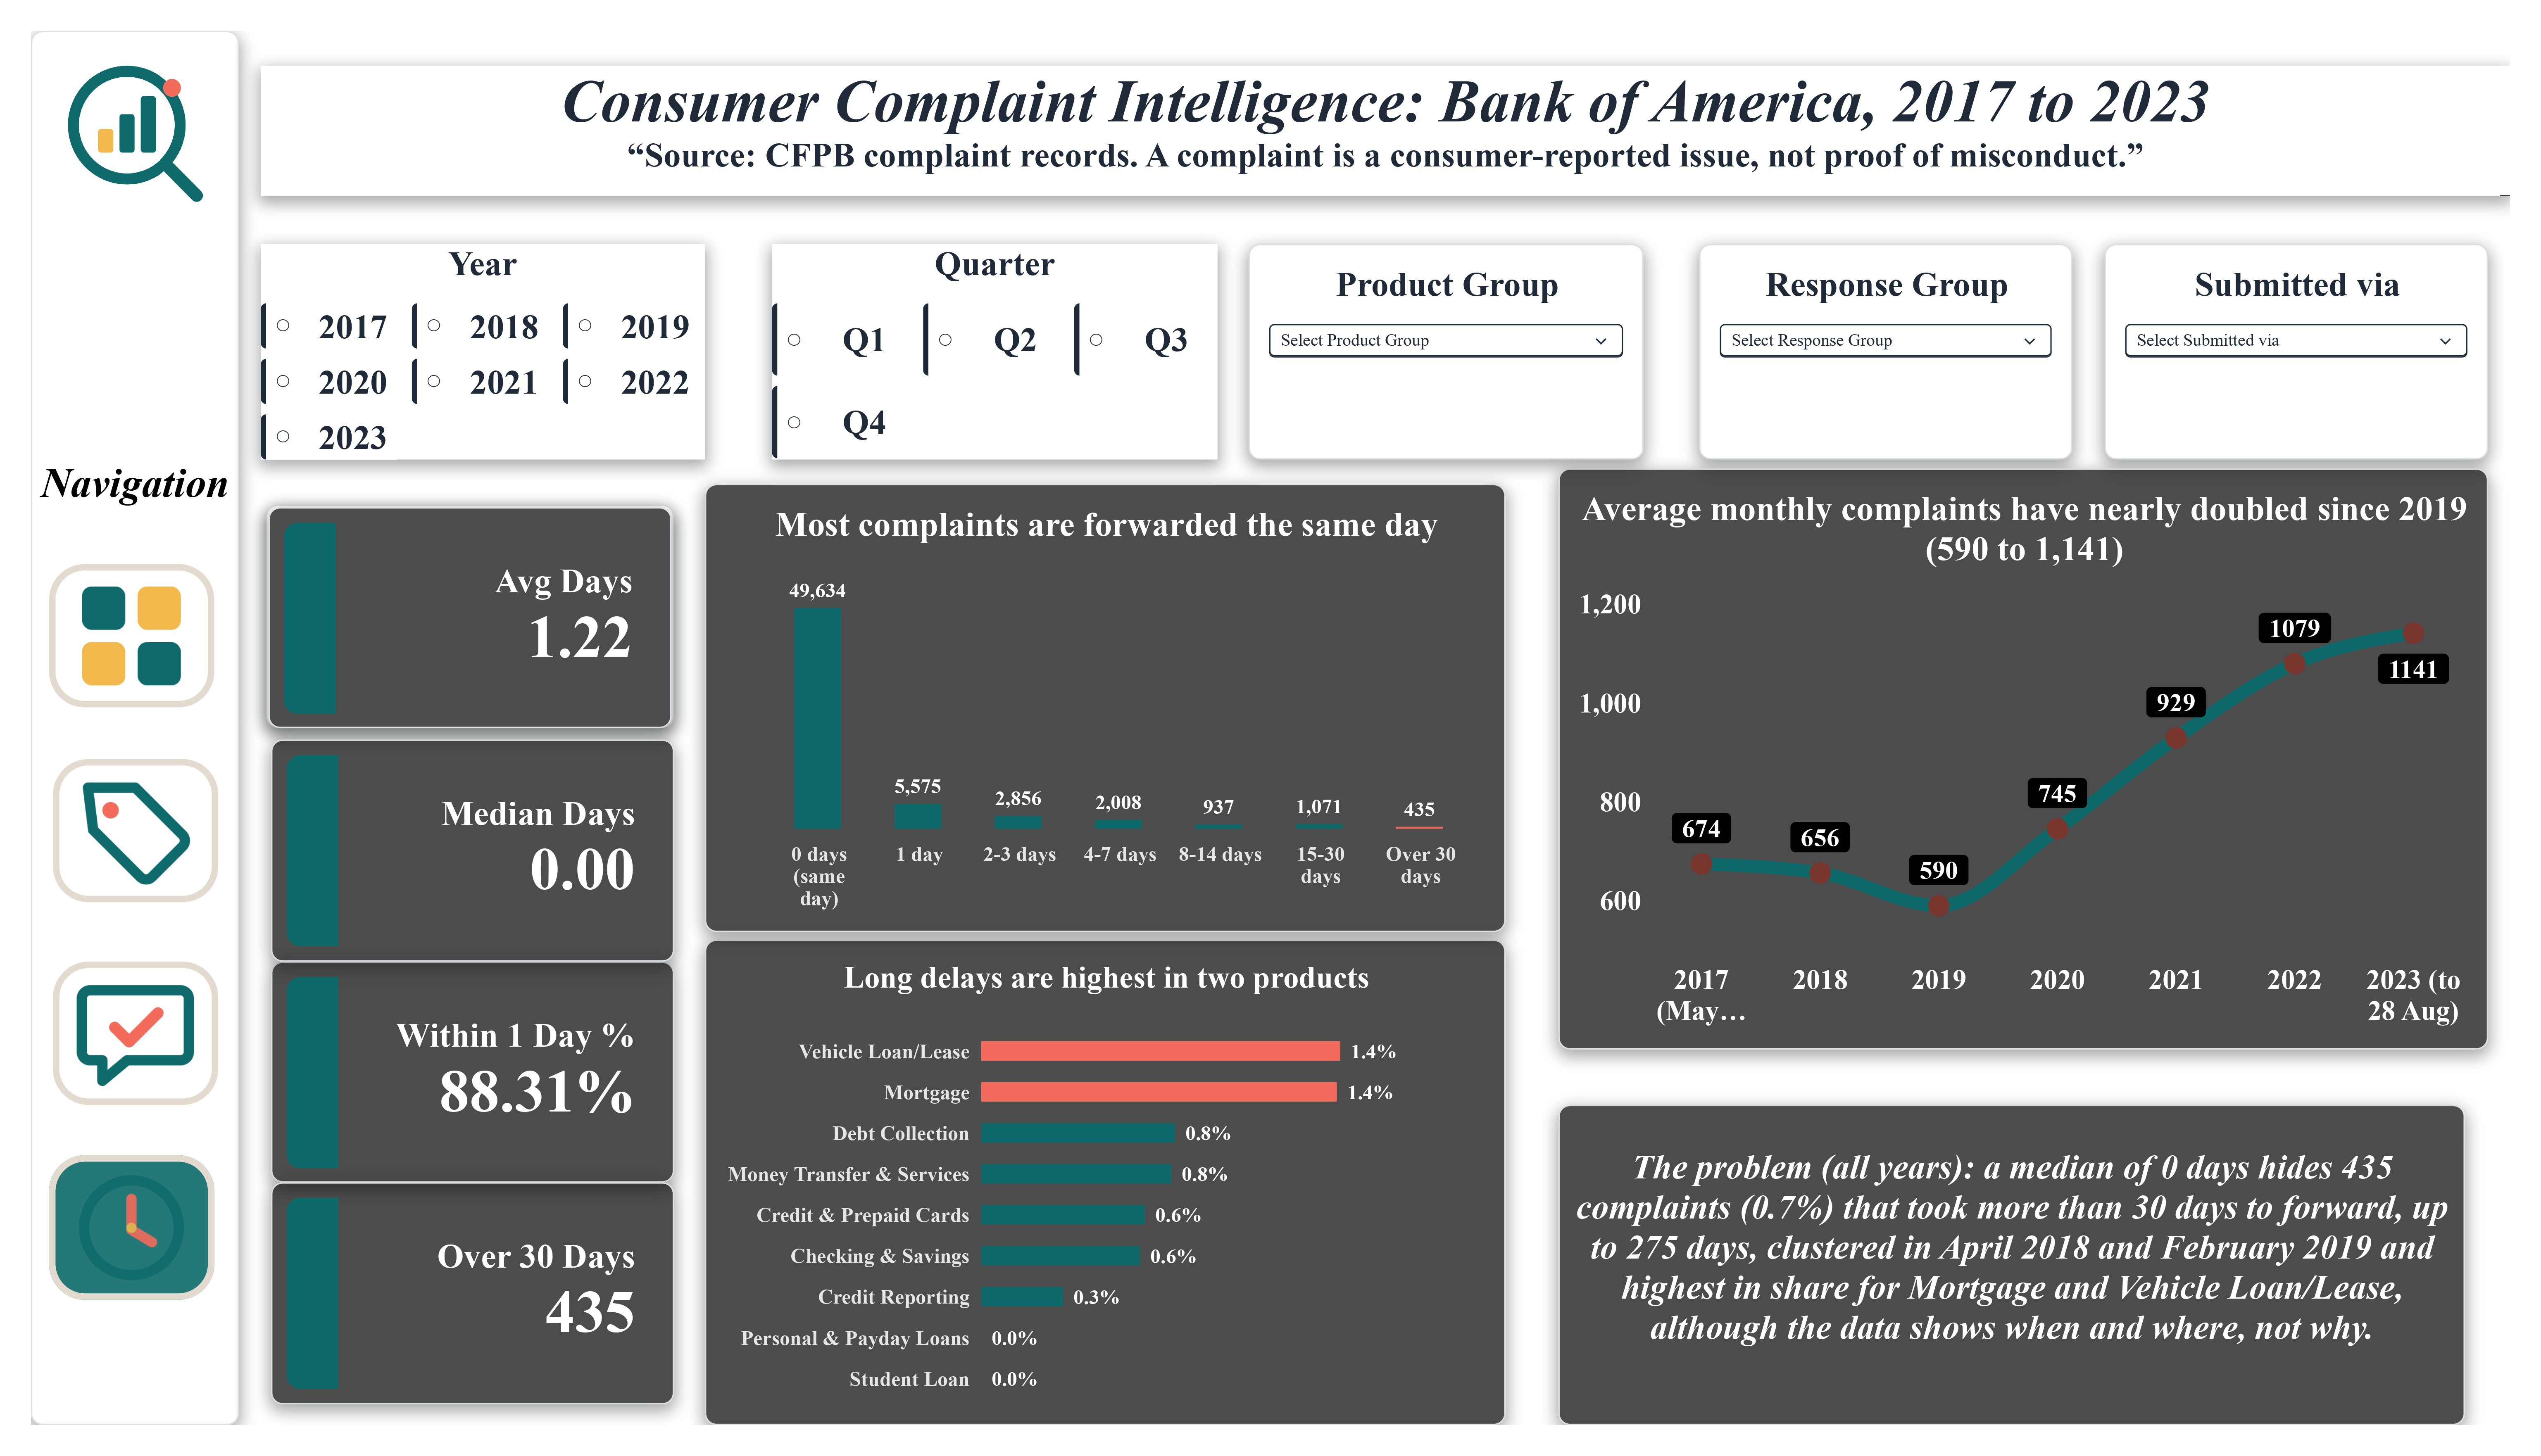

The page's visual inventory and layout, read from the dashboard file:
{"tool":"powerbi","page":{"name":"Executive Compaint Overview","canvas":[1920,1080],"ordinal":0},"visuals":[{"type":"group","id":"g1","title":"Group 2","box":[0,0,161,1079.7],"z":0},{"type":"shape","box":[0,0,161,1079.7],"z":0,"group":"g1"},{"type":"shape","box":[181.7,367.5,316.4,173.5],"z":0,"group":"g2"},{"type":"shape","box":[543,367.5,316.4,173.5],"z":0,"group":"g6"},{"type":"shape","box":[889.8,367.5,316.4,173.5],"z":0,"group":"g3"},{"type":"shape","box":[1247.6,367.5,316.4,173.5],"z":0,"group":"g4"},{"type":"shape","box":[1604.1,367.5,316.4,173.5],"z":0,"group":"g5"},{"type":"image","box":[0,0,161,150.7],"z":1000,"group":"g1"},{"type":"textbox","title":"Consumer Complaint Intelligence: Bank of America, 2017 to 2023","box":[177.5,26.8,1742.5,101.2],"z":1000},{"type":"advancedSlicerVisual","fields":{"Values":["DimDate.Year"]},"box":[177.5,165.2,344.8,167.2],"z":2000},{"type":"textbox","box":[0,332.4,161,80.5],"z":2000,"group":"g1"},{"type":"advancedSlicerVisual","fields":{"Values":["DimDate.Quarter"]},"box":[573.9,165.2,344.8,167.2],"z":3000},{"type":"listSlicer","fields":{"Values":["Complaints.Product Group"]},"box":[943.5,165.2,305.5,167.2],"z":4000},{"type":"listSlicer","fields":{"Values":["Complaints.Response Group"]},"box":[1292.4,165.2,289,167.2],"z":5000},{"type":"listSlicer","fields":{"Values":["Complaints.Submitted via"]},"box":[1606.2,165.2,297.3,167.2],"z":6000},{"type":"group","id":"g2","title":"Group 1","box":[181.7,367.5,315.9,173.4],"z":7000},{"type":"group","id":"g3","title":"Group 1","box":[889.8,367.5,315.9,173.4],"z":8000},{"type":"group","id":"g4","title":"Group 1","box":[1247.6,367.5,315.9,173.4],"z":9000},{"type":"group","id":"g5","title":"Group 1","box":[1604.1,367.5,316.4,173.5],"z":10000},{"type":"group","id":"g6","title":"Group 1","box":[543,367.5,315.9,173.4],"z":11000},{"type":"cardVisual","fields":{"Data":["Calculations.Total Complaints"]},"box":[184.1,369.2,312,171.6],"z":11000,"group":"g2"},{"type":"cardVisual","fields":{"Data":["Calculations.Timely %"]},"box":[545.4,369.2,312,171.6],"z":11000,"group":"g6"},{"type":"cardVisual","fields":{"Data":["Calculations.Avg Forwarding Days"]},"box":[892.2,369.2,312,171.6],"z":11000,"group":"g3"},{"type":"cardVisual","fields":{"Data":["Calculations.Median Forwarding Days"]},"box":[1250,369.2,312,171.6],"z":11000,"group":"g4"},{"type":"cardVisual","fields":{"Data":["Calculations.In Progress"]},"box":[1606.5,369.2,312,171.6],"z":11000,"group":"g5"},{"type":"lineChart","title":"Annual complaints vs same-months comparison (May to Jul)","fields":{"Category":["DimDate.Year Label"],"Y":["Calculations.Total Complaints","Calculations.Complaints May-Jul"]},"box":[185.8,584.3,945.5,384],"z":12000},{"type":"clusteredBarChart","title":"Complaints By Product","fields":{"Category":["Complaints.Product (Short)"],"Y":["Calculations.Total Complaints"]},"box":[1172.6,584.3,730.8,384],"z":13000},{"type":"textbox","box":[185.8,982.7,1732.1,97],"z":14000},{"type":"actionButton","box":[14.5,412.9,128,111.5],"z":15000},{"type":"actionButton","box":[16.5,704,128,111.5],"z":16000},{"type":"actionButton","box":[16.5,563.6,128,111.5],"z":17000},{"type":"actionButton","box":[14.5,871.2,128,111.5],"z":18000}]}

Visuals, with their boxes on the page's 1920x1080 design canvas (x1, y1, x2, y2). These are canvas units, not pixel positions in the 2541x1456 screenshot, which may show the page scaled, cropped or inside an application window:
"Group 2" group: [left=0, top=0, right=161, bottom=1080]
shape: [left=0, top=0, right=161, bottom=1080]
shape: [left=182, top=368, right=498, bottom=541]
shape: [left=543, top=368, right=859, bottom=541]
shape: [left=890, top=368, right=1206, bottom=541]
shape: [left=1248, top=368, right=1564, bottom=541]
shape: [left=1604, top=368, right=1920, bottom=541]
image: [left=0, top=0, right=161, bottom=151]
"Consumer Complaint Intelligence: Bank of America, 2017 to 2023" textbox: [left=178, top=27, right=1920, bottom=128]
advancedSlicerVisual - DimDate.Year: [left=178, top=165, right=522, bottom=332]
textbox: [left=0, top=332, right=161, bottom=413]
advancedSlicerVisual - DimDate.Quarter: [left=574, top=165, right=919, bottom=332]
listSlicer - Complaints.Product Group: [left=944, top=165, right=1249, bottom=332]
listSlicer - Complaints.Response Group: [left=1292, top=165, right=1581, bottom=332]
listSlicer - Complaints.Submitted via: [left=1606, top=165, right=1904, bottom=332]
"Group 1" group: [left=182, top=368, right=498, bottom=541]
"Group 1" group: [left=890, top=368, right=1206, bottom=541]
"Group 1" group: [left=1248, top=368, right=1564, bottom=541]
"Group 1" group: [left=1604, top=368, right=1920, bottom=541]
"Group 1" group: [left=543, top=368, right=859, bottom=541]
cardVisual - Calculations.Total Complaints: [left=184, top=369, right=496, bottom=541]
cardVisual - Calculations.Timely %: [left=545, top=369, right=857, bottom=541]
cardVisual - Calculations.Avg Forwarding Days: [left=892, top=369, right=1204, bottom=541]
cardVisual - Calculations.Median Forwarding Days: [left=1250, top=369, right=1562, bottom=541]
cardVisual - Calculations.In Progress: [left=1606, top=369, right=1918, bottom=541]
"Annual complaints vs same-months comparison (May to Jul)" lineChart: [left=186, top=584, right=1131, bottom=968]
"Complaints By Product" clusteredBarChart: [left=1173, top=584, right=1903, bottom=968]
textbox: [left=186, top=983, right=1918, bottom=1080]
actionButton: [left=14, top=413, right=142, bottom=524]
actionButton: [left=16, top=704, right=144, bottom=816]
actionButton: [left=16, top=564, right=144, bottom=675]
actionButton: [left=14, top=871, right=142, bottom=983]
